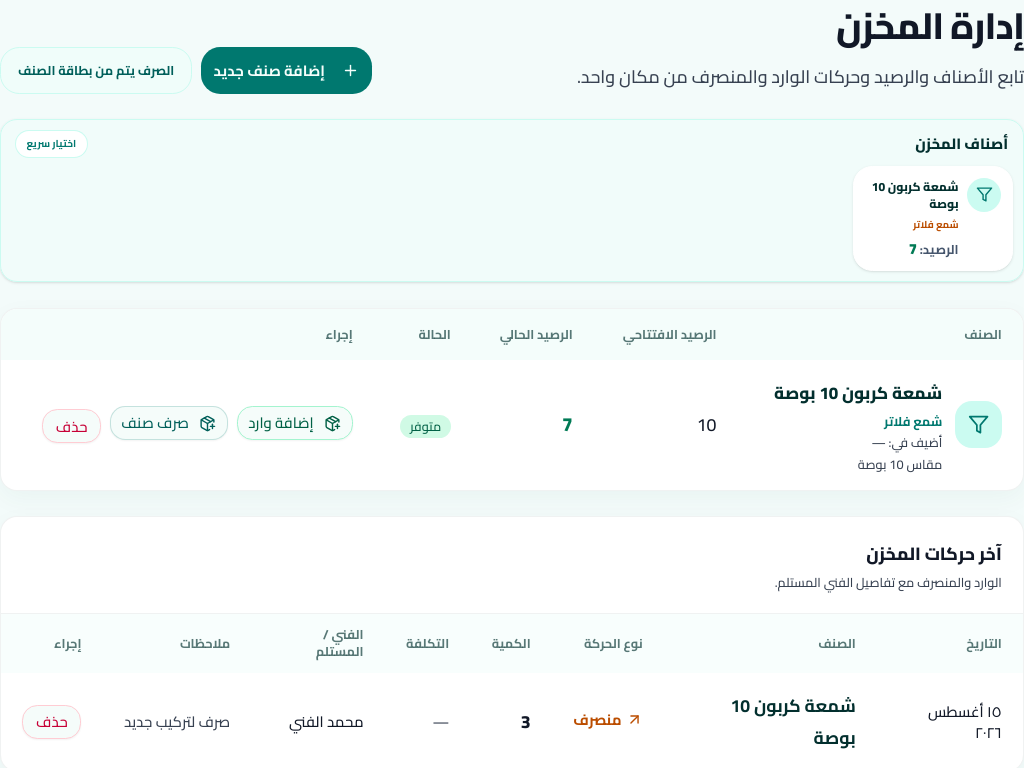
تفاصيل المنصرف في المخزون › يفتح كل بيانات الصنف عند الضغط على اسمه
Click the button "شمعة كربون 10 بوصة".
click(858, 394)  # box [774,381,942,406]
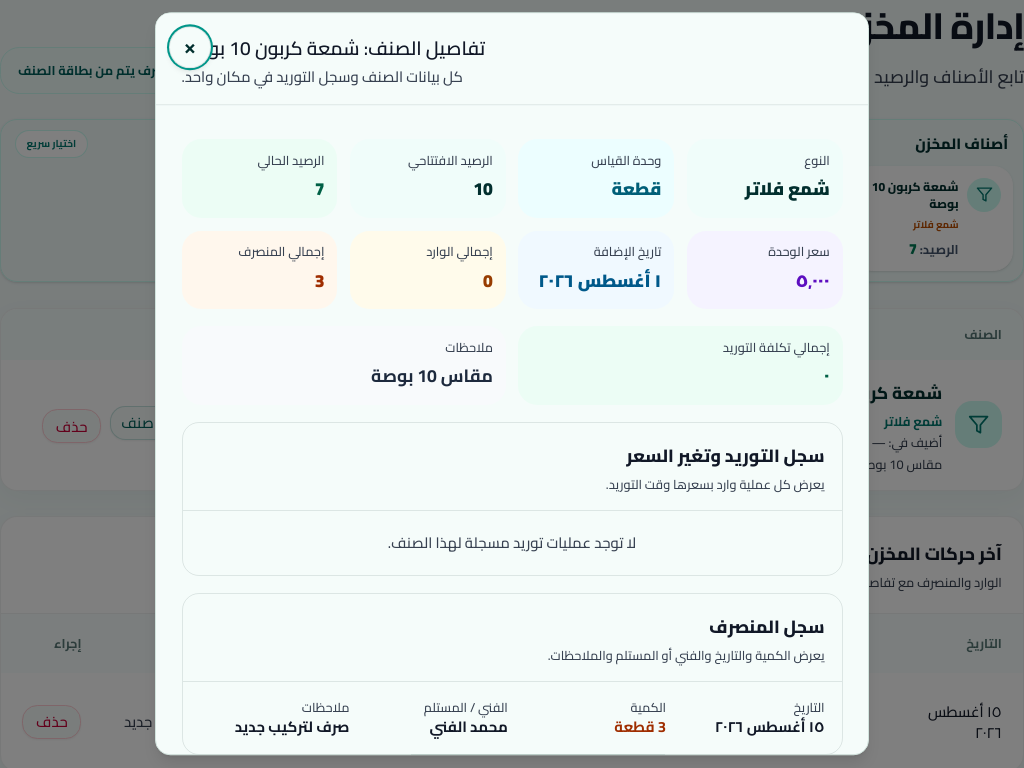
Now the heading "تفاصيل الصنف: شمعة كربون 10 بوصة" is shown, box [182,30,485,66]
Now the text "شمع فلاتر" is shown, box [745,173,830,206]
Now the text "مقاس 10 بوصة" is shown, box [371,360,493,392]
